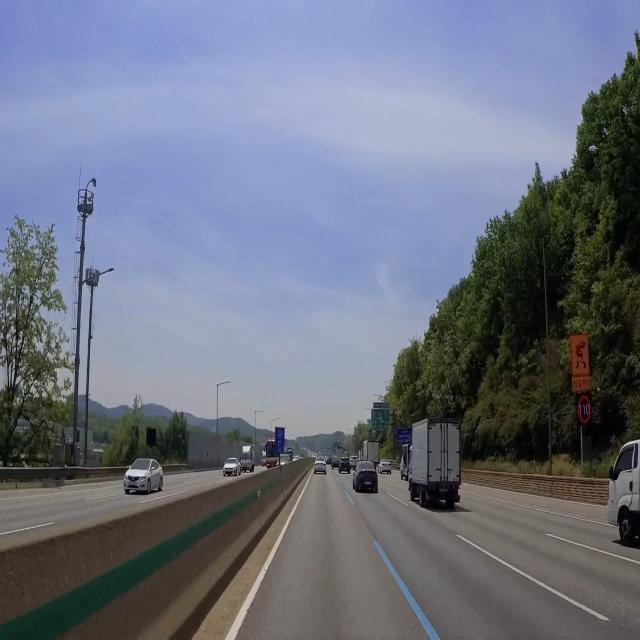car: (437, 482, 451, 496), (127, 480, 139, 490), (363, 480, 373, 490), (317, 467, 323, 471), (343, 467, 348, 471)
